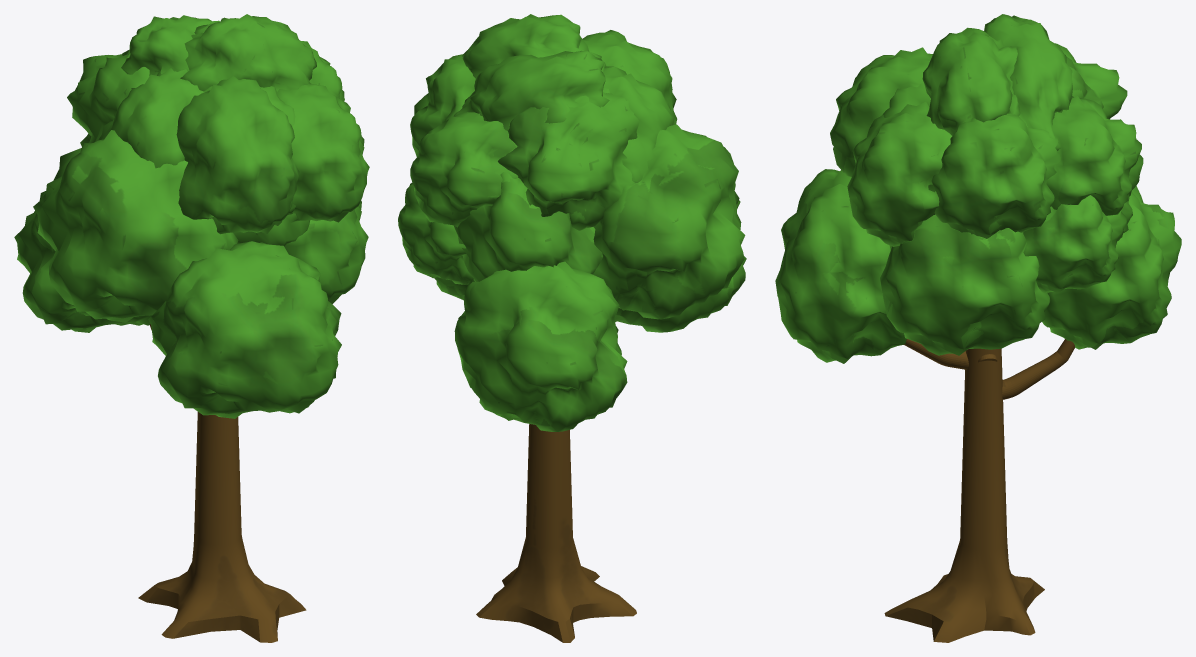
Rendered from TREE02.fbx.
The picture shows the model from 3 angles, left to right: view 1: azimuth 30°, elevation 25°; view 2: azimuth 150°, elevation 25°; view 3: azimuth 270°, elevation 25°; orthographic projection.
Visible parts, largest first — view 1: 1, Cylinder; view 2: 1, Cylinder; view 3: 1, Cylinder.
Boxes of the visible parts, <box> form: 1: <box>14,14,369,418</box>; Cylinder: <box>138,324,306,642</box>; 1: <box>398,14,746,431</box>; Cylinder: <box>476,424,636,642</box>; 1: <box>775,14,1181,363</box>; Cylinder: <box>884,339,1074,642</box>.
Bounding box in the file's own units: 88.47 × 160 × 101.
2 materials, 2 textured.
